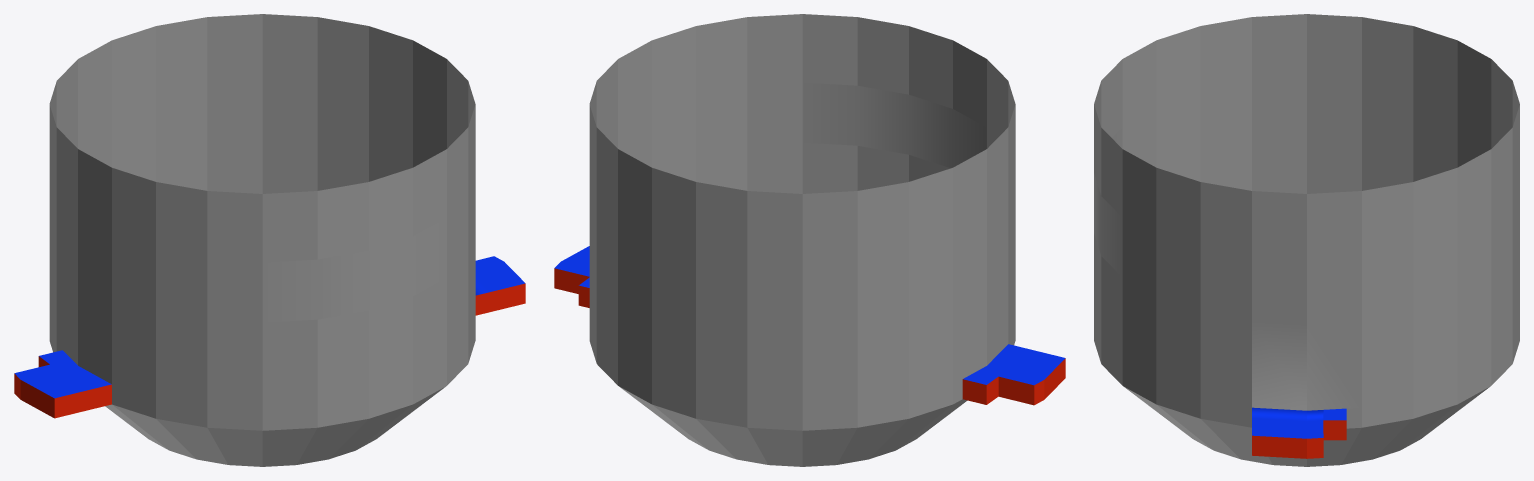
Rendered from TestScene_NewCollider.fbx.
3 renders of one model, left to right at view 1: azimuth 30°, elevation 25°; view 2: azimuth 150°, elevation 25°; view 3: azimuth 270°, elevation 25°, orthographic.
Visible parts, largest first — view 1: Collider2; view 2: Collider2; view 3: Collider2.
Boxes of the visible parts, x1=… form: Collider2: x1=14, y1=14, x2=525, y2=466; Collider2: x1=554, y1=14, x2=1065, y2=466; Collider2: x1=1094, y1=14, x2=1519, y2=466.
Bounding box in the file's own units: 401 × 244 × 306.
